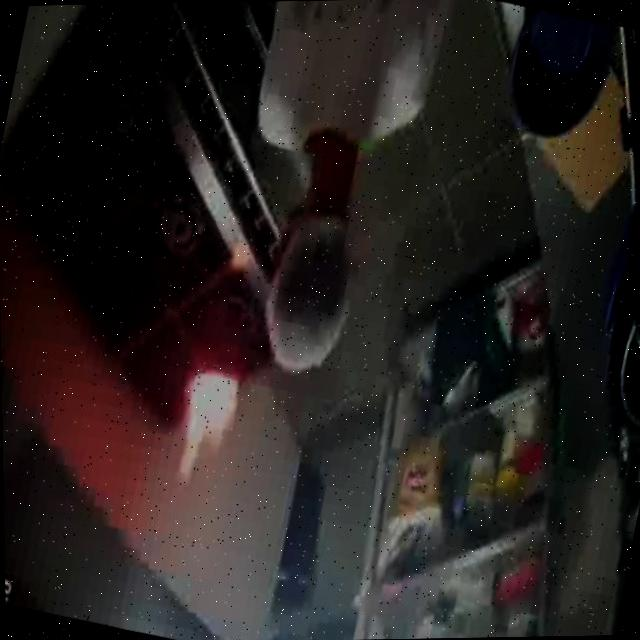fire: (139, 310, 273, 543)
